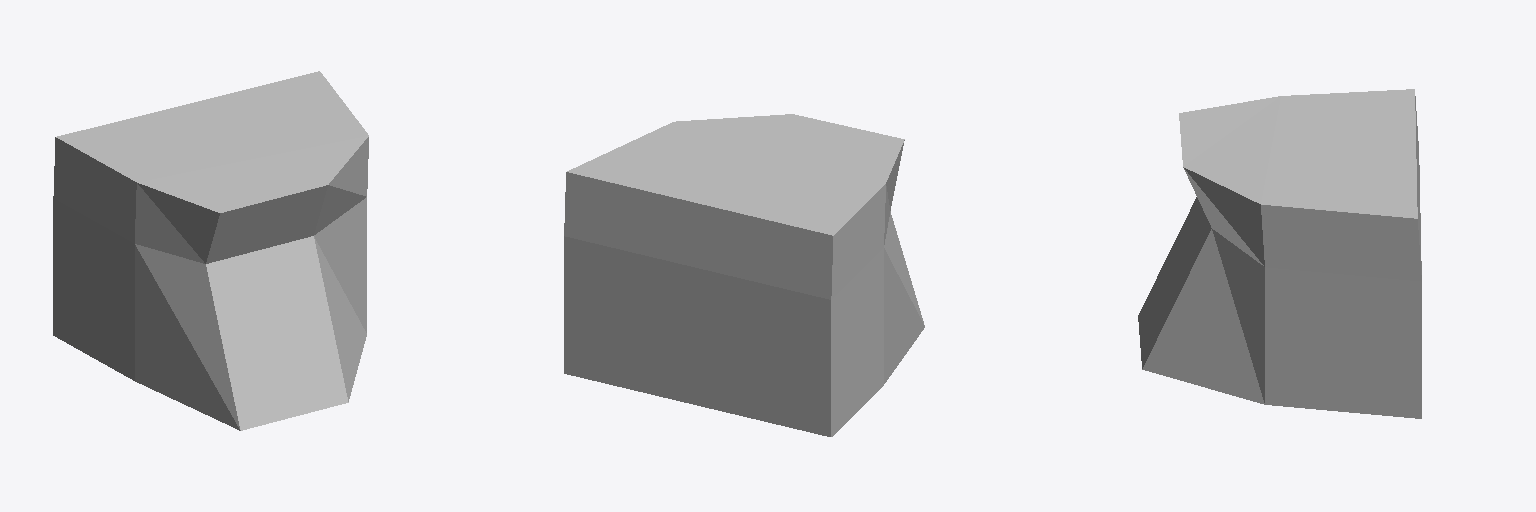
The model's file is Platform left.obj.
3 views of the same model, side by side, from view 1: azimuth 30°, elevation 25°; view 2: azimuth 150°, elevation 25°; view 3: azimuth 270°, elevation 25° (orthographic).
Parts seen in each view (by area): view 1: Platform left; view 2: Platform left; view 3: Platform left.
Boxes of the visible parts, x1,y1,x2,y2 form: Platform left: [53, 71, 368, 430]; Platform left: [564, 114, 924, 436]; Platform left: [1138, 89, 1421, 418].
Size of the model in its own units: 7.92 by 5.81 by 7.32.